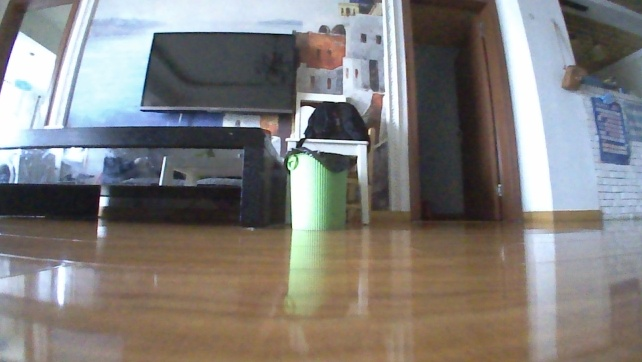TV_stand: (0, 121, 288, 230)
door_anno: (451, 0, 524, 223)
